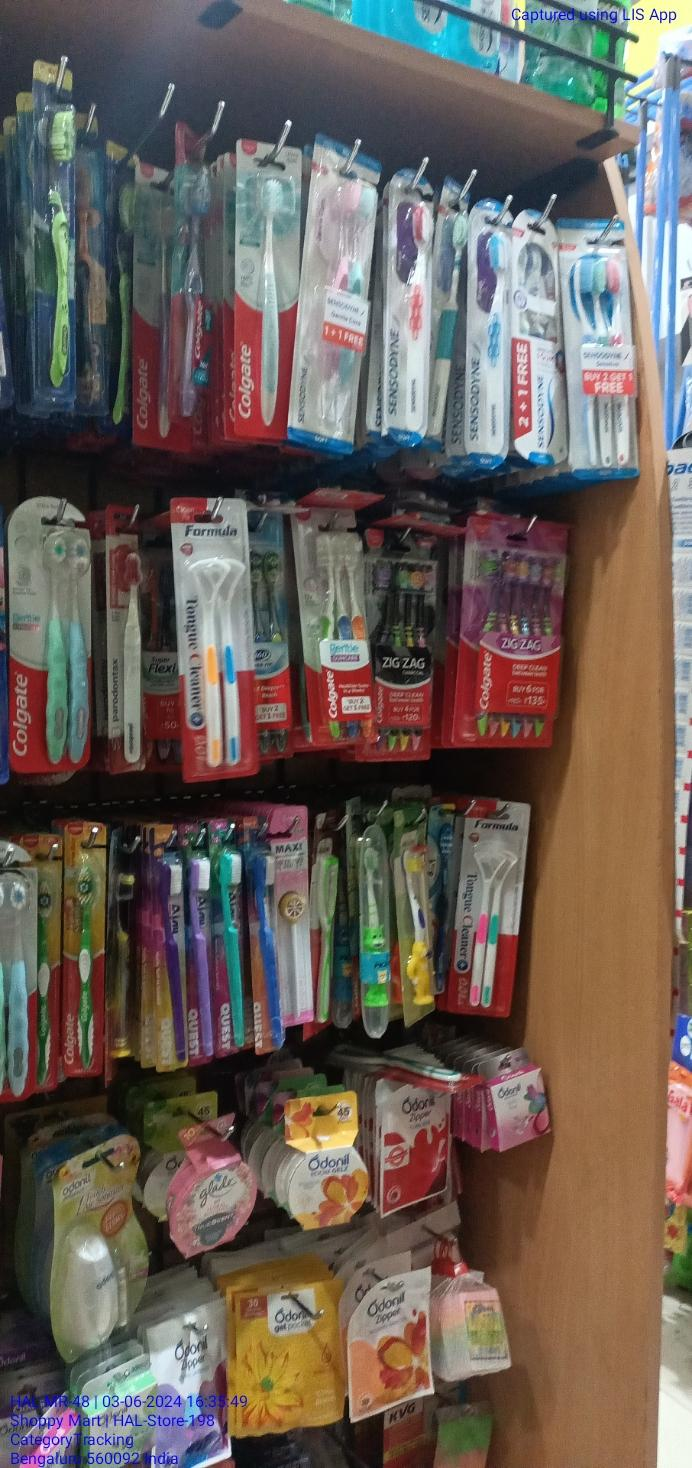4: (511, 210, 564, 466)
7: (307, 135, 371, 453)
liquid soap: (368, 528, 438, 760)
